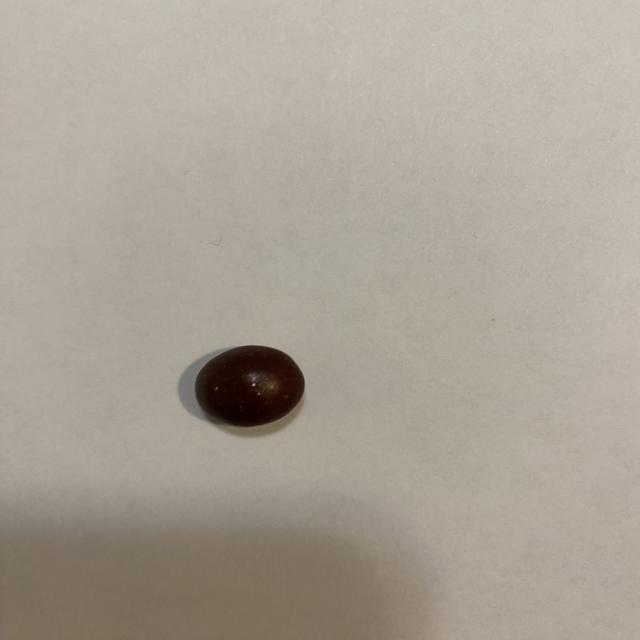smartie: (194, 346, 304, 427)
